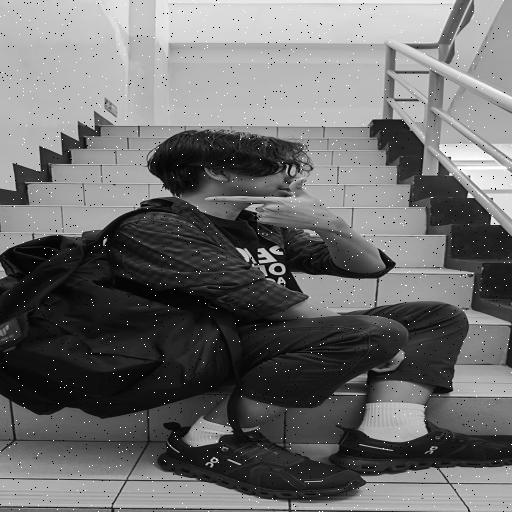next: (186, 170, 359, 238)
